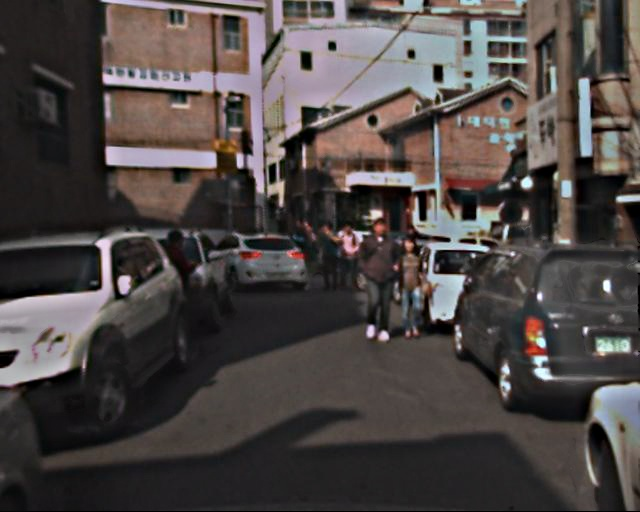person: (352, 219, 404, 345), (154, 229, 200, 342), (388, 236, 431, 340), (314, 223, 341, 290), (336, 224, 362, 288), (292, 217, 322, 263)
